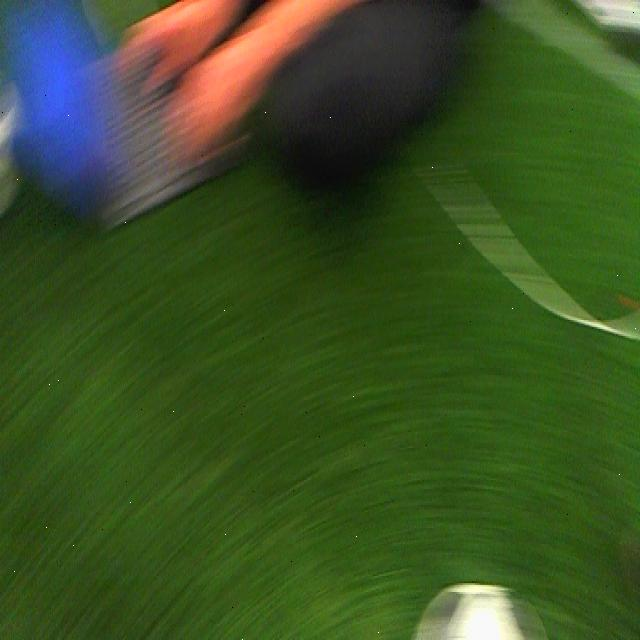ball: (413, 576, 548, 640)
